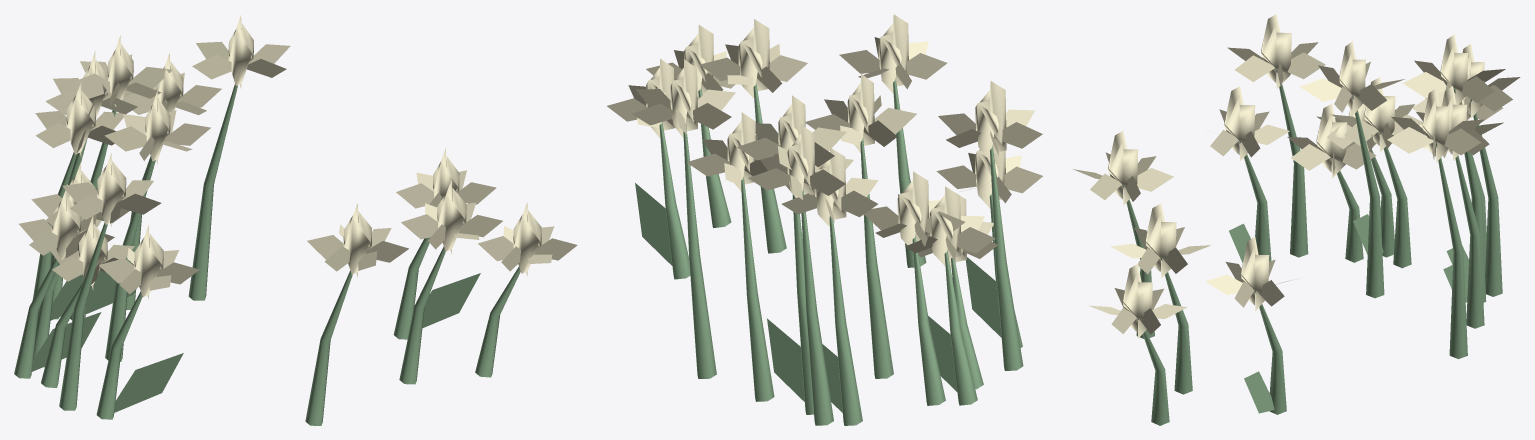
The model's file is golden_daisy.glb.
The picture shows the model from 3 angles, left to right: view 1: azimuth 30°, elevation 25°; view 2: azimuth 150°, elevation 25°; view 3: azimuth 270°, elevation 25°; orthographic projection. The views are drawn at different scales.
Parts seen in each view (by area): view 1: golden_daisy; view 2: golden_daisy; view 3: golden_daisy.
Boxes of the visible parts, x1,y1,x2,y2 form: golden_daisy: [14, 15, 577, 425]; golden_daisy: [607, 14, 1042, 425]; golden_daisy: [1072, 14, 1520, 425].
Bounding box in the file's own units: 1.33 × 0.8426 × 1.21.
